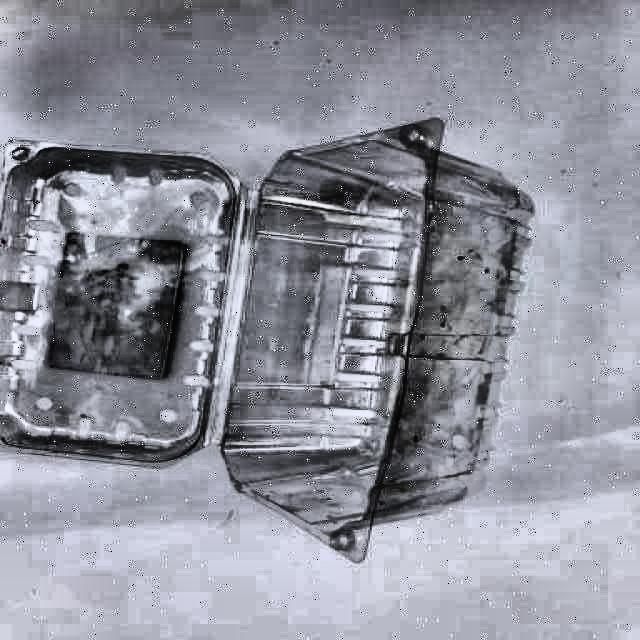plastic: (0, 120, 532, 561)
